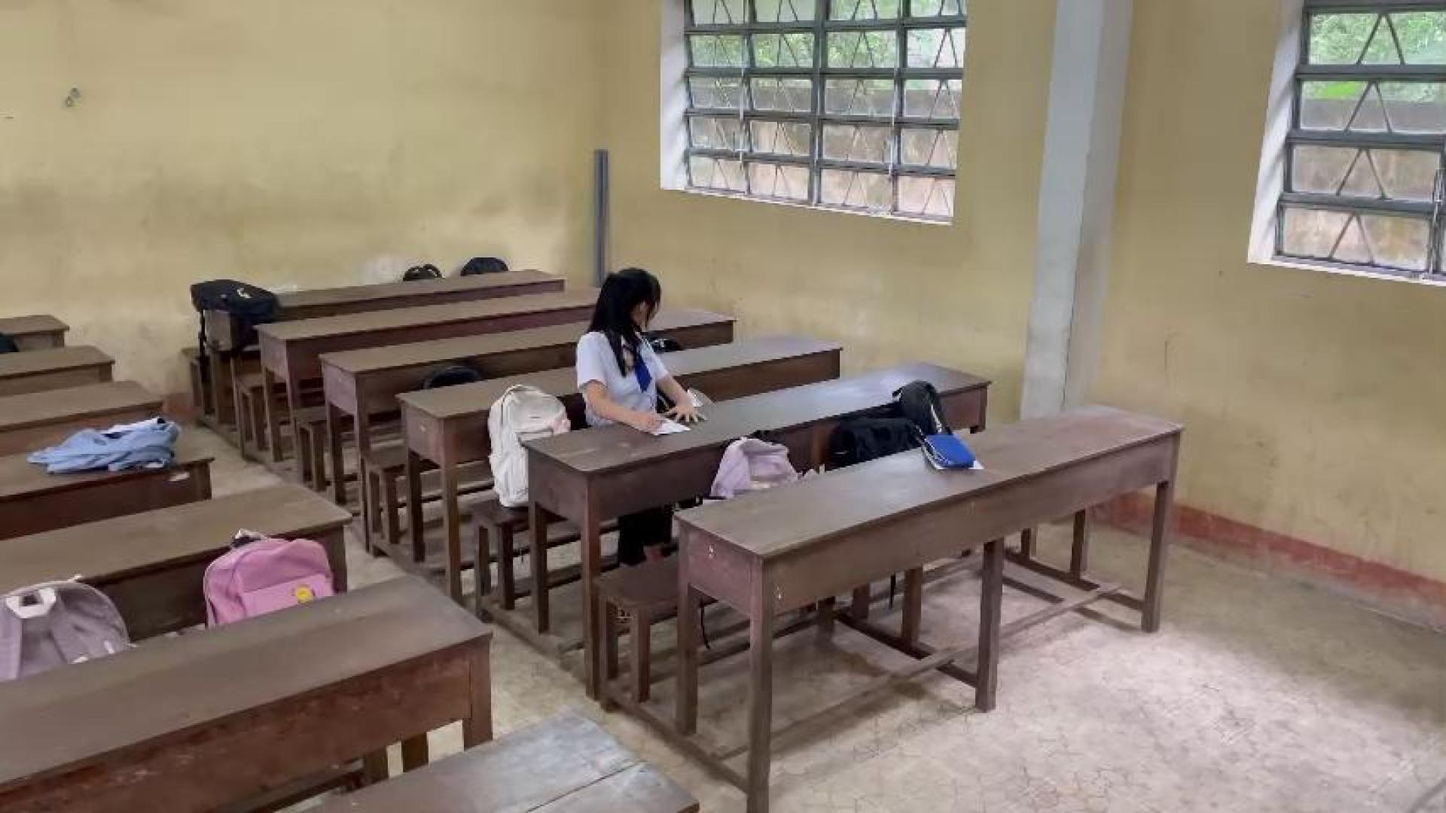Look Around: (588, 259, 681, 346)
